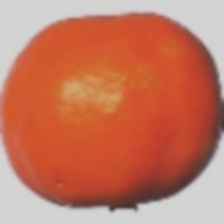tangerine: (23, 44, 193, 216)
